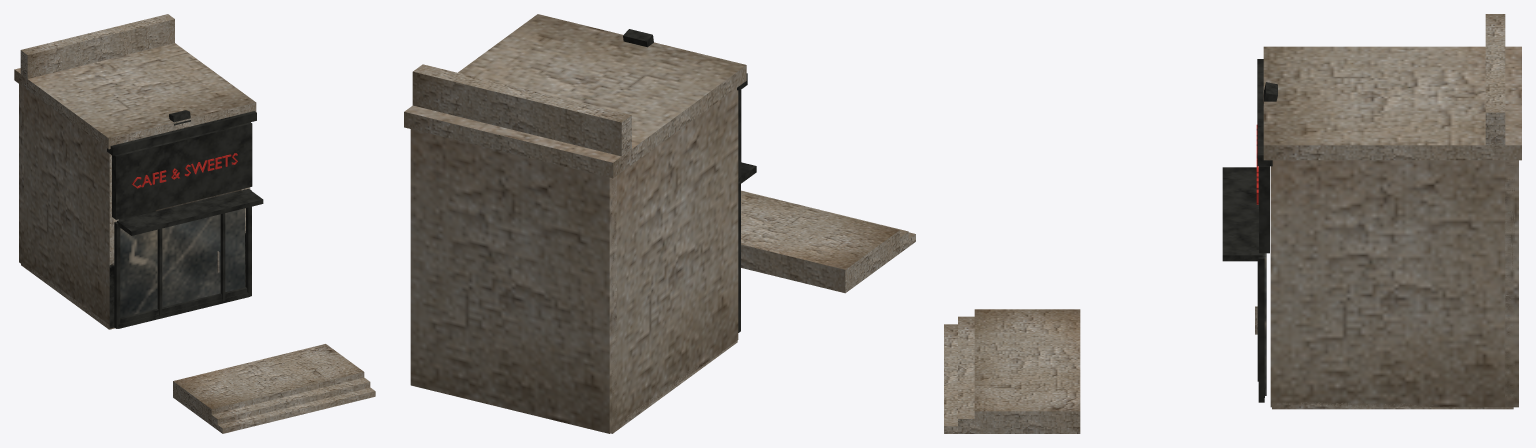
The model's file is Cafe.fbx.
3 renders of one model, left to right at view 1: azimuth 30°, elevation 25°; view 2: azimuth 150°, elevation 25°; view 3: azimuth 270°, elevation 25°, orthographic. The views are drawn at different scales.
Visible parts, largest first — view 1: SA2_Cafe_Mesh, SA2_Cafe_Mesh.001, SA2_Text_Cafe; view 2: SA2_Cafe_Mesh, SA2_Cafe_Mesh.001; view 3: SA2_Cafe_Mesh, SA2_Cafe_Mesh.001.
Part boxes in pixels (bbox=[...]): SA2_Cafe_Mesh: bbox=[14, 14, 263, 329]; SA2_Cafe_Mesh.001: bbox=[173, 344, 375, 433]; SA2_Text_Cafe: bbox=[132, 153, 237, 188]; SA2_Cafe_Mesh: bbox=[404, 14, 756, 433]; SA2_Cafe_Mesh.001: bbox=[741, 190, 915, 293]; SA2_Cafe_Mesh: bbox=[1222, 14, 1521, 409]; SA2_Cafe_Mesh.001: bbox=[944, 309, 1080, 433].
Bounding box in the file's own units: 435 × 635 × 1040.
2 materials, 1 textured.
